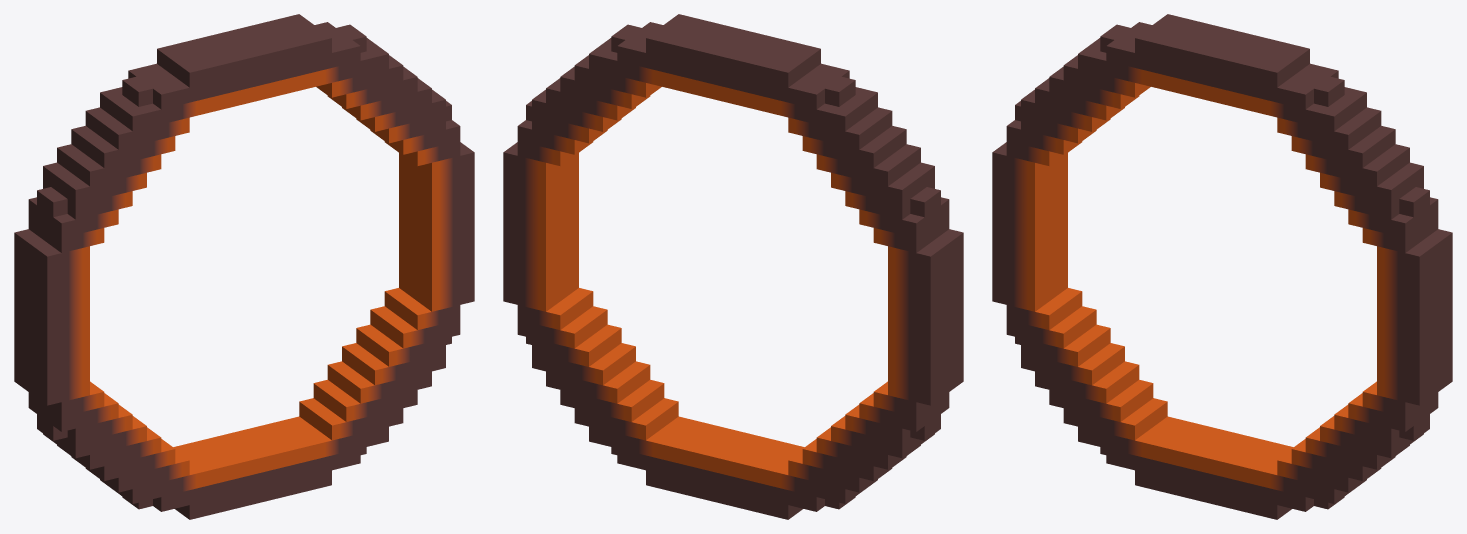
The model's file is TorusTrap.fbx.
3 renders of one model, left to right at view 1: azimuth 30°, elevation 25°; view 2: azimuth 150°, elevation 25°; view 3: azimuth 330°, elevation 25°, orthographic.
Visible parts, largest first — view 1: TorusTrap; view 2: TorusTrap; view 3: TorusTrap.
Boxes of the visible parts, <box> form: TorusTrap: <box>14,14,474,519</box>; TorusTrap: <box>503,14,963,519</box>; TorusTrap: <box>992,14,1452,519</box>.
Size of the model in its own units: 30 by 30 by 4.
1 material, 1 textured.
